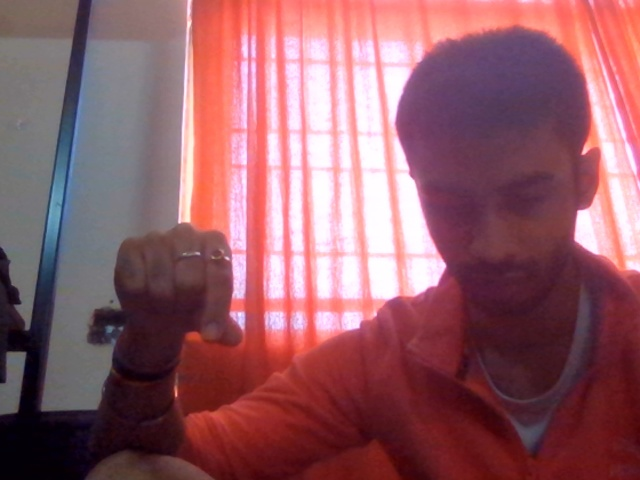Q: (77, 194, 263, 397)
